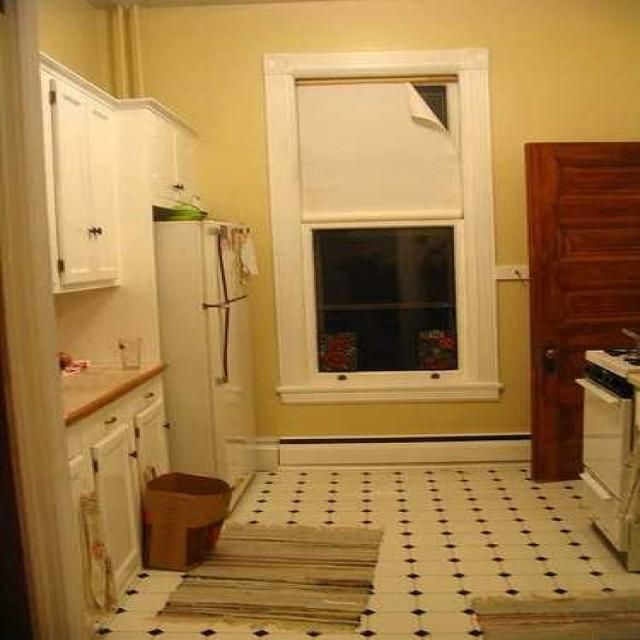refrigerator: (153, 220, 250, 477)
